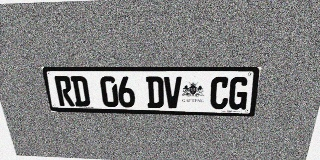0: (99, 76, 119, 107)
6: (117, 76, 136, 108)
C: (210, 77, 230, 109)
D: (70, 76, 91, 107), (146, 76, 164, 108)
G: (228, 77, 250, 110)
R: (54, 76, 75, 106)
V: (164, 76, 182, 108)
